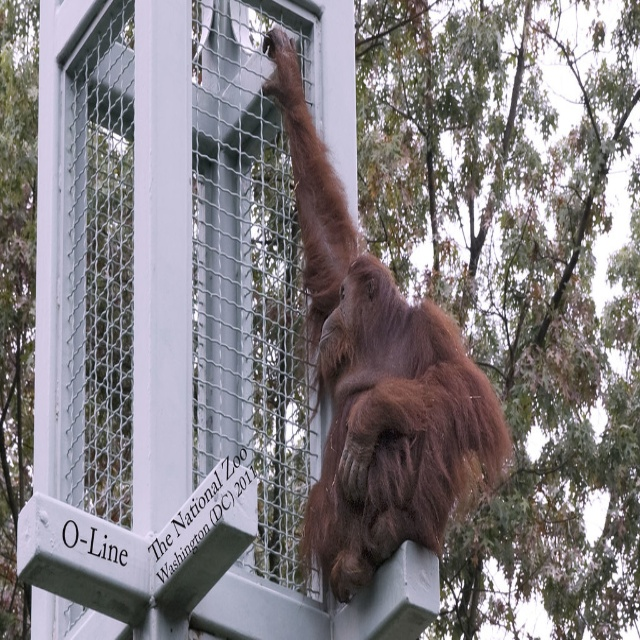Monkey: (262, 26, 511, 601)
